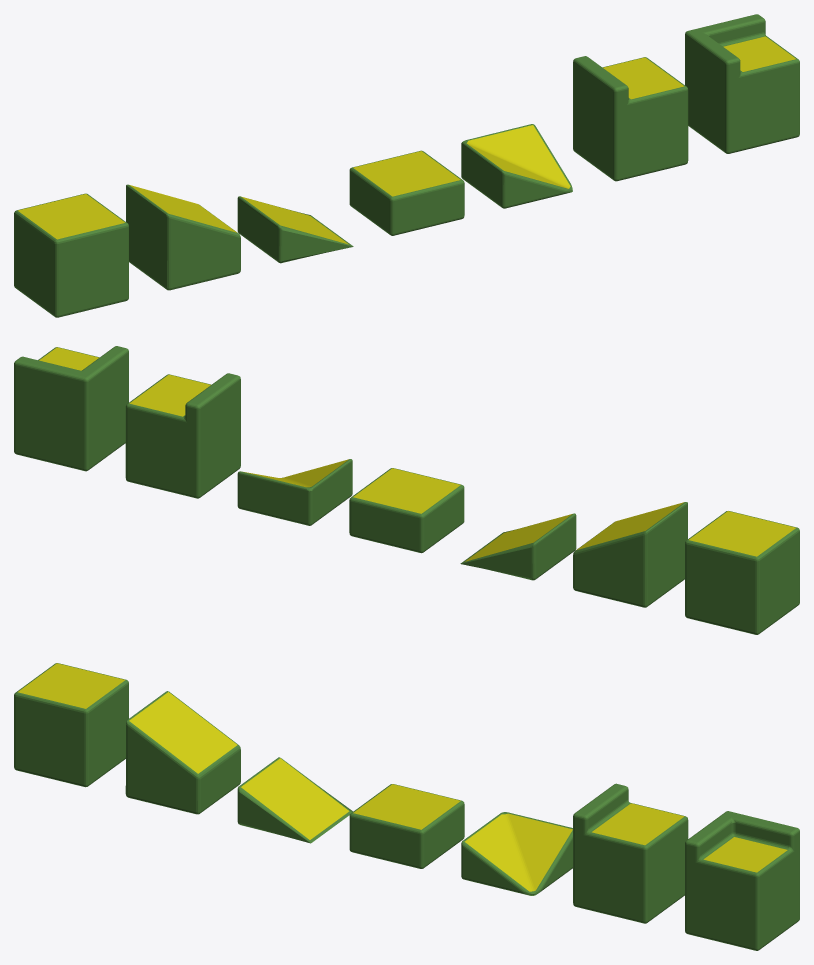
The model's file is Tutorial-Tileset.glb.
The picture shows the model from 3 angles, top to bottom: view 1: azimuth 30°, elevation 25°; view 2: azimuth 150°, elevation 25°; view 3: azimuth 330°, elevation 25°; orthographic projection.
Parts seen in each view (by area): view 1: BlockCorner, BlockWall, Block, RampTop, BlockShort, RampBottomCorner, RampBottom; view 2: BlockCorner, BlockWall, Block, RampTop, BlockShort, RampBottomCorner, RampBottom; view 3: BlockCorner, BlockWall, Block, RampTop, BlockShort, RampBottomCorner, RampBottom.
Boxes of the visible parts, x1,y1,x2,y2 form: BlockCorner: (685, 14, 799, 153); BlockWall: (573, 56, 688, 181); Block: (14, 193, 128, 317); RampTop: (126, 184, 240, 290); BlockShort: (349, 150, 464, 235); RampBottomCorner: (461, 124, 572, 208); RampBottom: (237, 196, 353, 263); BlockCorner: (14, 346, 128, 471); BlockWall: (125, 373, 240, 498); Block: (685, 511, 799, 634); RampTop: (573, 502, 687, 607); BlockShort: (349, 468, 464, 553); RampBottomCorner: (237, 459, 352, 525); RampBottom: (460, 513, 576, 580); BlockCorner: (685, 811, 799, 950); BlockWall: (573, 783, 688, 923); Block: (14, 663, 128, 787); RampTop: (125, 691, 240, 814); BlockShort: (349, 784, 464, 868); RampBottomCorner: (461, 812, 572, 895); RampBottom: (237, 757, 352, 843).
Size of what is drawn, in the model's own units: 20 by 2.4 by 2.
